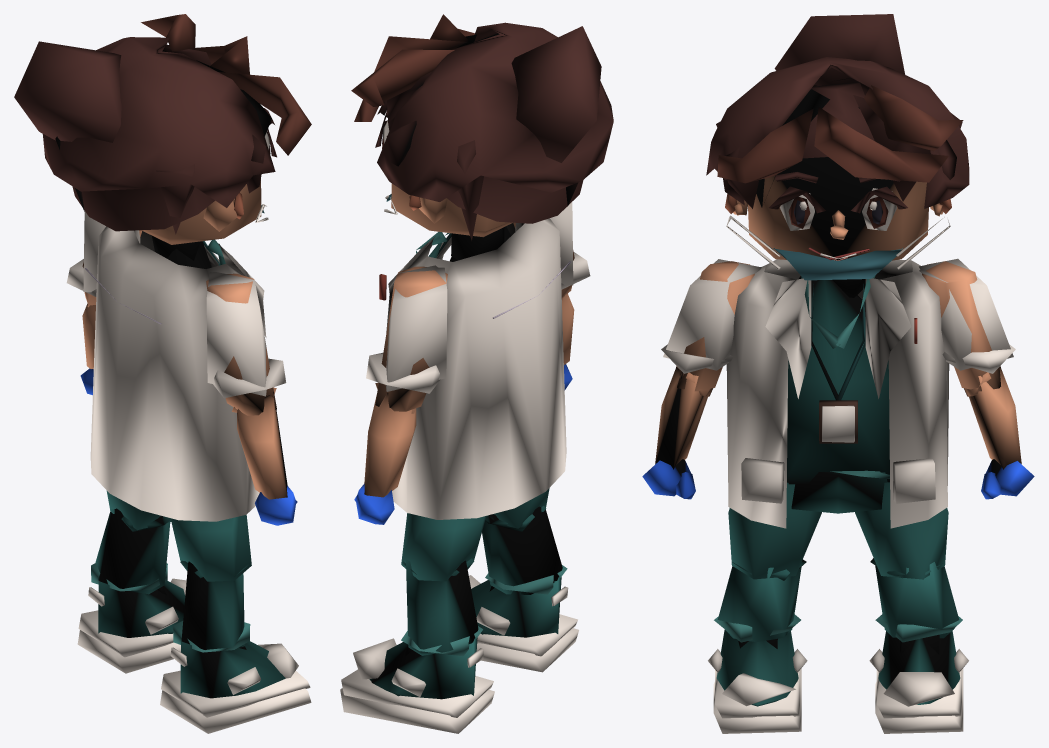
The model's file is npc.lab-tech-b.lod2.glb.
The picture shows the model from 3 angles, left to right: view 1: azimuth 30°, elevation 25°; view 2: azimuth 150°, elevation 25°; view 3: azimuth 270°, elevation 25°; orthographic projection. The views are drawn at different scales.
Visible parts, largest first — view 1: head, torso, footR, armR, footL, shinL, shinR, legR, foreArmR, armL, handR, legL (+1 smaller); view 2: head, torso, footL, armL, footR, shinL, shinR, legL, foreArmL, armR, handL, legR (+1 smaller); view 3: head, torso, footL, footR, armL, armR, shinR, shinL, legR, legL, hip, foreArmR (+3 smaller).
Part boxes in pixels (left/top/right/bottom): head: left=14, top=14, right=311, bottom=260; torso: left=85, top=226, right=266, bottom=521; footR: left=160, top=640, right=311, bottom=733; armR: left=206, top=272, right=286, bottom=415; footL: left=77, top=578, right=186, bottom=673; shinL: left=91, top=508, right=171, bottom=594; shinR: left=173, top=560, right=250, bottom=652; legR: left=171, top=515, right=251, bottom=581; foreArmR: left=232, top=387, right=287, bottom=499; armL: left=66, top=211, right=141, bottom=305; handR: left=255, top=486, right=297, bottom=525; legL: left=106, top=490, right=171, bottom=530; head: left=351, top=14, right=613, bottom=260; torso: left=379, top=218, right=571, bottom=519; footL: left=340, top=636, right=494, bottom=733; armL: left=366, top=265, right=447, bottom=411; footR: left=469, top=575, right=578, bottom=672; shinL: left=401, top=558, right=482, bottom=656; shinR: left=482, top=506, right=567, bottom=594; legL: left=401, top=513, right=486, bottom=581; foreArmL: left=364, top=382, right=416, bottom=497; armR: left=513, top=202, right=590, bottom=298; handL: left=354, top=483, right=394, bottom=524; legR: left=486, top=488, right=549, bottom=528; head: left=706, top=14, right=969, bottom=297; torso: left=726, top=259, right=949, bottom=528; footL: left=869, top=631, right=968, bottom=733; footR: left=708, top=630, right=807, bottom=733; armL: left=912, top=258, right=1015, bottom=391; armR: left=661, top=259, right=761, bottom=391; shinR: left=714, top=559, right=806, bottom=642; shinL: left=870, top=558, right=962, bottom=642; legR: left=728, top=482, right=821, bottom=579; legL: left=855, top=482, right=948, bottom=579; hip: left=791, top=470, right=889, bottom=513; foreArmR: left=655, top=367, right=713, bottom=469.
Size of the model in its own units: 0.4924 by 1.35 by 0.7504.
